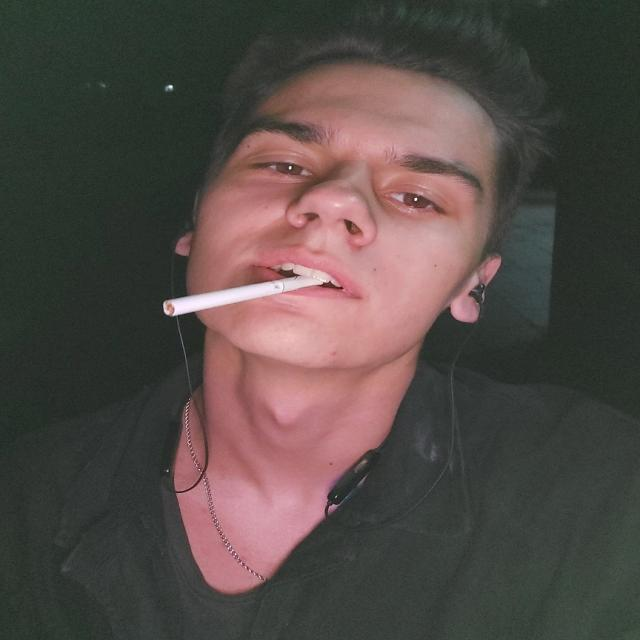smoke: (157, 267, 333, 320)
